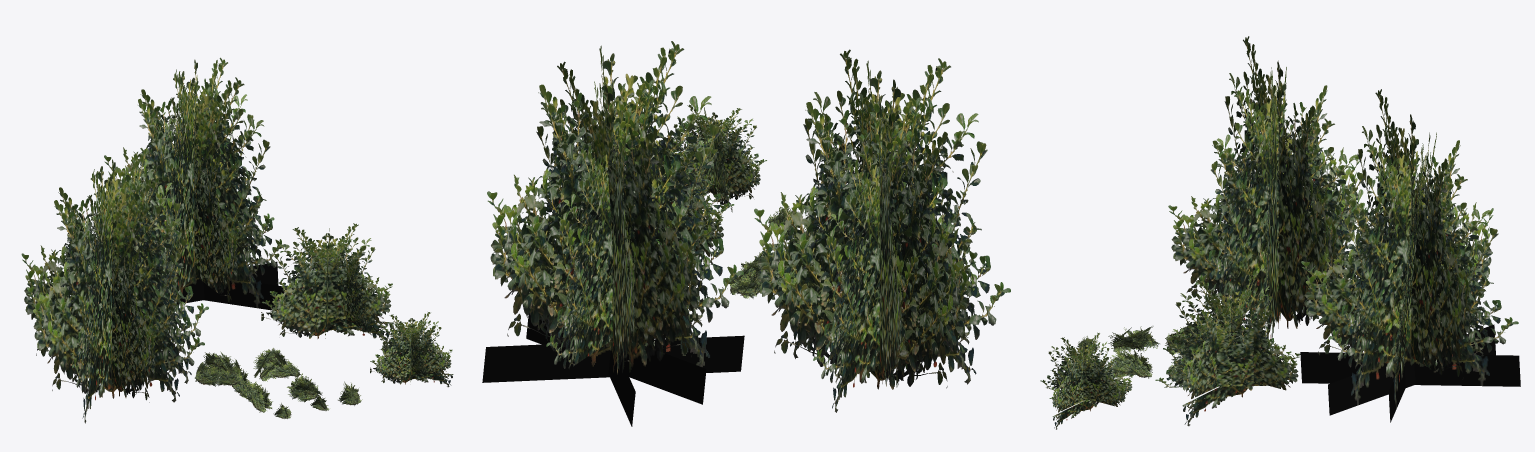
Rendered from trees and bushes.fbx.
3 views of the same model, side by side, from view 1: azimuth 30°, elevation 25°; view 2: azimuth 150°, elevation 25°; view 3: azimuth 270°, elevation 25° (orthographic). The views are drawn at different scales.
Parts seen in each view (by area): view 1: pine1, Pine2, tree2, TreeSmall, MushBig, BushBig2, BushMed, BushMed2; view 2: Pine2, pine1, TreeSmall, tree2, BushBig2; view 3: Pine2, pine1, tree2, TreeSmall, BushMed2, BushMed.
Part boxes in pixels (x1=…): pine1: x1=21, y1=148, x2=208, y2=423; Pine2: x1=104, y1=57, x2=286, y2=311; tree2: x1=261, y1=223, x2=394, y2=341; TreeSmall: x1=370, y1=312, x2=453, y2=387; MushBig: x1=194, y1=351, x2=251, y2=392; BushBig2: x1=253, y1=348, x2=301, y2=381; BushMed: x1=233, y1=380, x2=272, y2=412; BushMed2: x1=287, y1=373, x2=322, y2=402; Pine2: x1=482, y1=41, x2=744, y2=426; pine1: x1=754, y1=49, x2=1010, y2=412; TreeSmall: x1=671, y1=104, x2=766, y2=212; tree2: x1=616, y1=121, x2=734, y2=263; BushBig2: x1=729, y1=252, x2=779, y2=298; Pine2: x1=1300, y1=89, x2=1520, y2=422; pine1: x1=1168, y1=36, x2=1364, y2=342; tree2: x1=1155, y1=272, x2=1300, y2=426; TreeSmall: x1=1040, y1=332, x2=1133, y2=429; BushMed2: x1=1110, y1=346, x2=1152, y2=378; BushMed: x1=1108, y1=326, x2=1159, y2=352.
Bounding box in the file's own units: 586 × 462 × 632.
8 materials, 8 textured.
